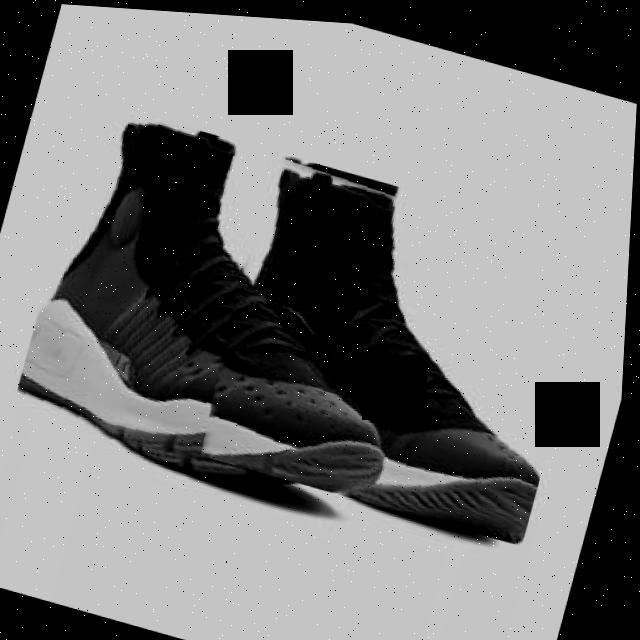shoe: (11, 96, 447, 514), (186, 144, 607, 542)
